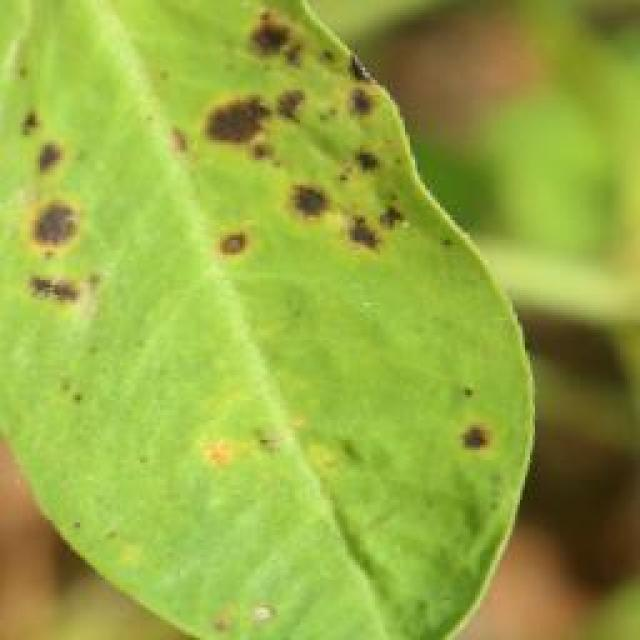Yellowish: (0, 0, 525, 538)
